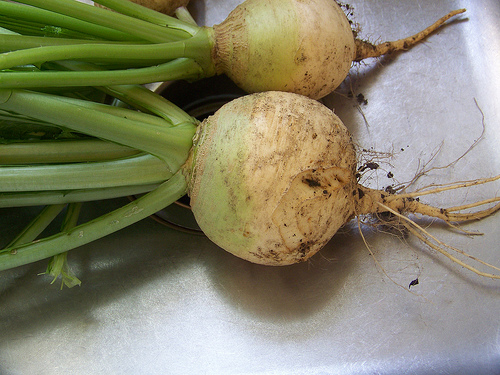turnip: (191, 90, 403, 263), (197, 0, 465, 98), (357, 98, 499, 279)
